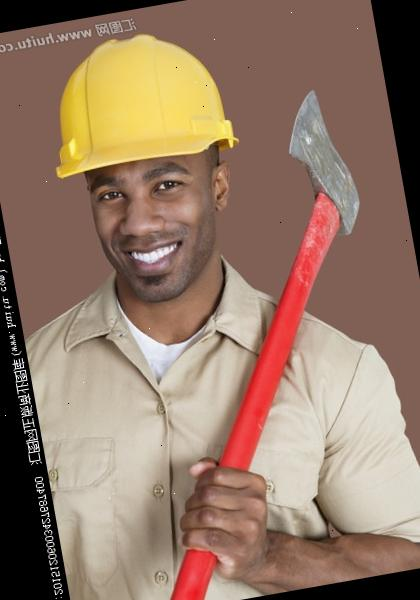helmet: (28, 12, 257, 192)
